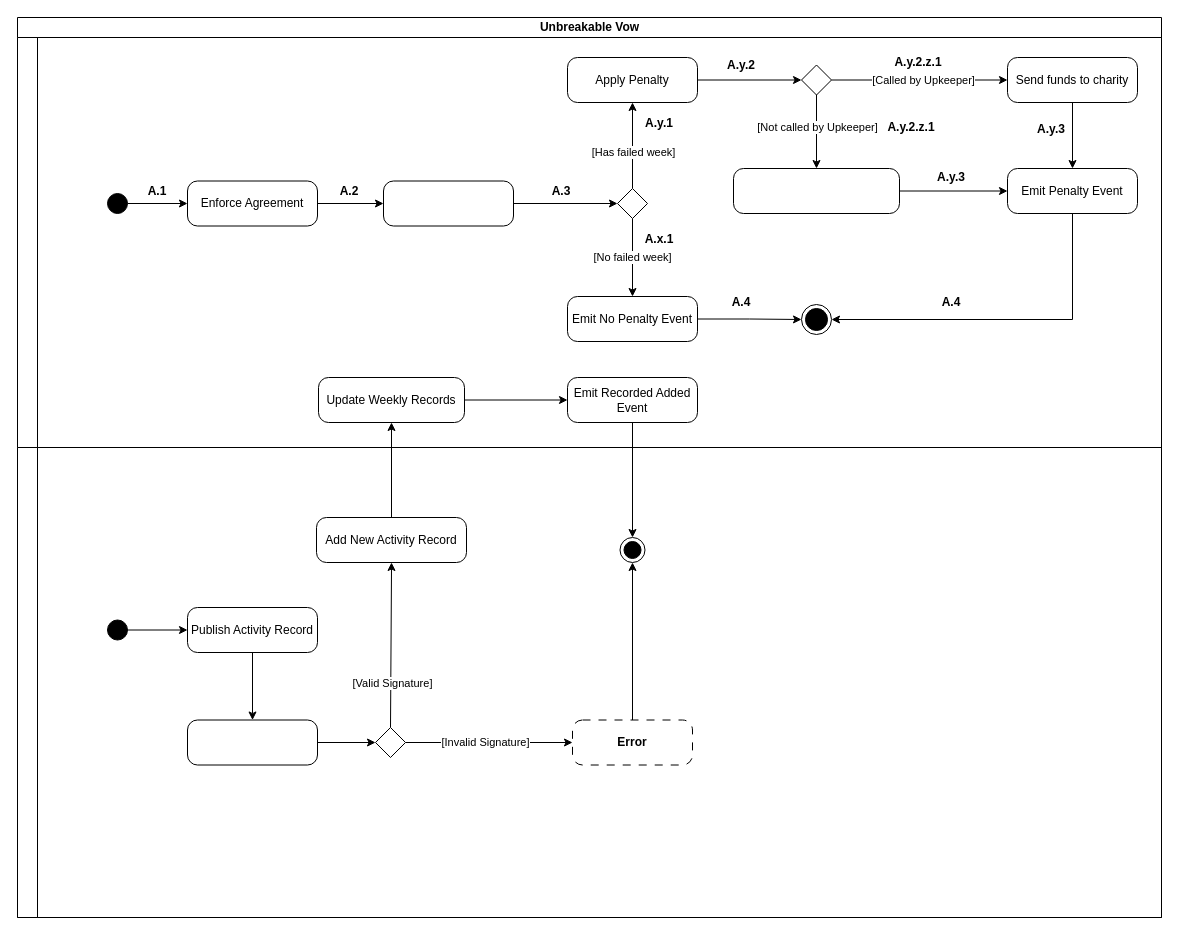
This 1179x935 diagram has some shape labels left out. Each missing label, with the box of its shape:
FitnessUnbreakableVow: (16, 36, 1162, 448)
Get First Failed Week: (382, 180, 514, 226)
PhysicalActivityOracle: (16, 446, 1162, 918)
Send funds to caller & charity: (732, 168, 900, 214)
Verify Signature: (186, 719, 318, 765)
